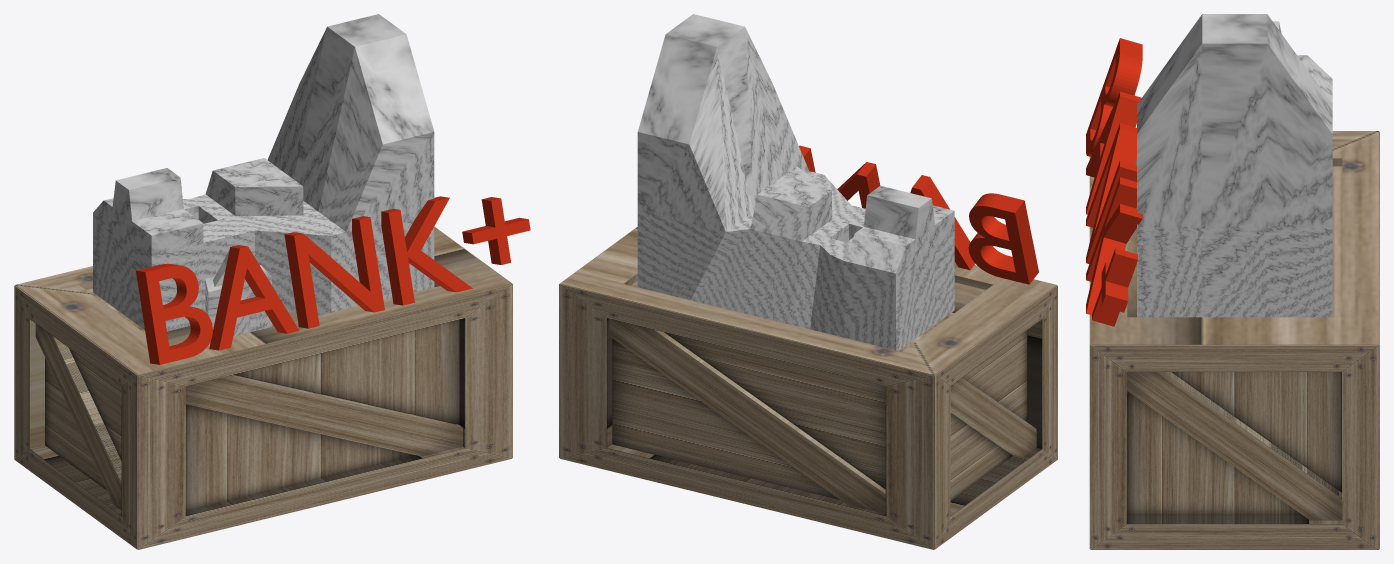
The model's file is Skrzynka.fbx.
The picture shows the model from 3 angles, left to right: view 1: azimuth 30°, elevation 25°; view 2: azimuth 150°, elevation 25°; view 3: azimuth 270°, elevation 25°; orthographic projection. The views are drawn at different scales.
Visible parts, largest first — view 1: Text; view 2: Text; view 3: Text.
Part boxes in pixels (x1=…): Text: x1=14, y1=14, x2=530, y2=549; Text: x1=559, y1=14, x2=1057, y2=549; Text: x1=1086, y1=14, x2=1379, y2=549.
Size of the model in its own units: 317 by 307 by 173.
